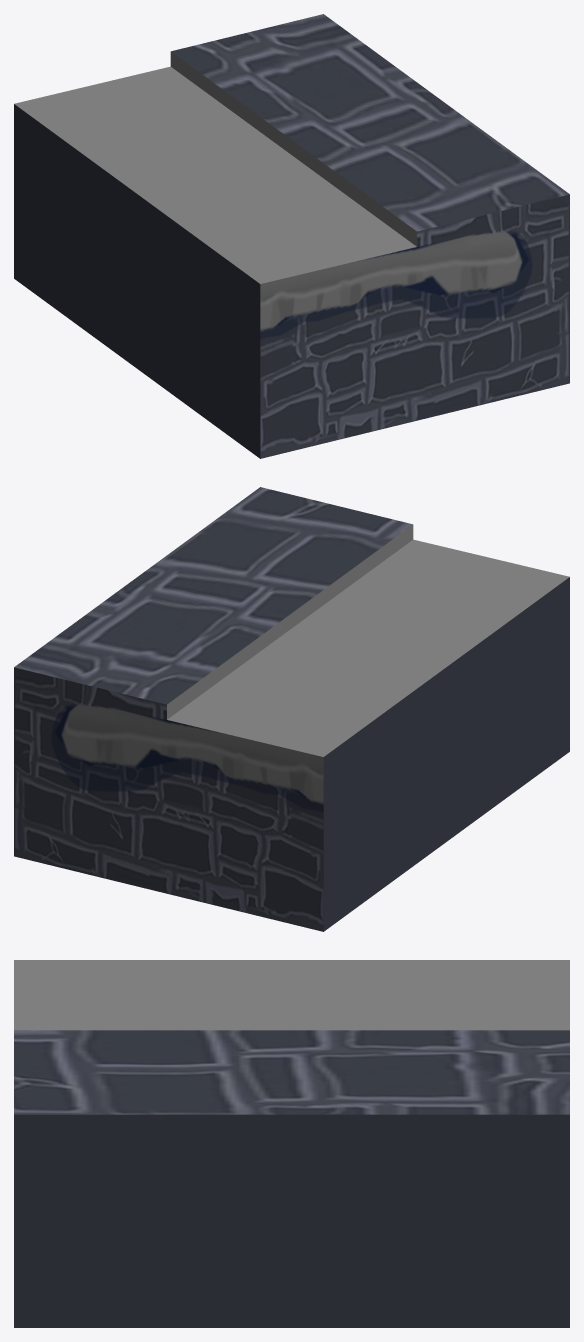
File: Crypt_R_4.fbx
3 views of the same model, one above another, from view 1: azimuth 30°, elevation 25°; view 2: azimuth 150°, elevation 25°; view 3: azimuth 270°, elevation 25° (orthographic). The views are drawn at different scales.
Parts seen in each view (by area): view 1: Crypt_R_4; view 2: Crypt_R_4; view 3: Crypt_R_4.
Boxes of the visible parts, x1,y1,x2,y2 form: Crypt_R_4: [14, 14, 569, 458]; Crypt_R_4: [14, 487, 569, 931]; Crypt_R_4: [14, 960, 569, 1327].
Size of the model in its own units: 3.09 by 1.8 by 4.26.
Materials: 1 (1 with a texture image).
